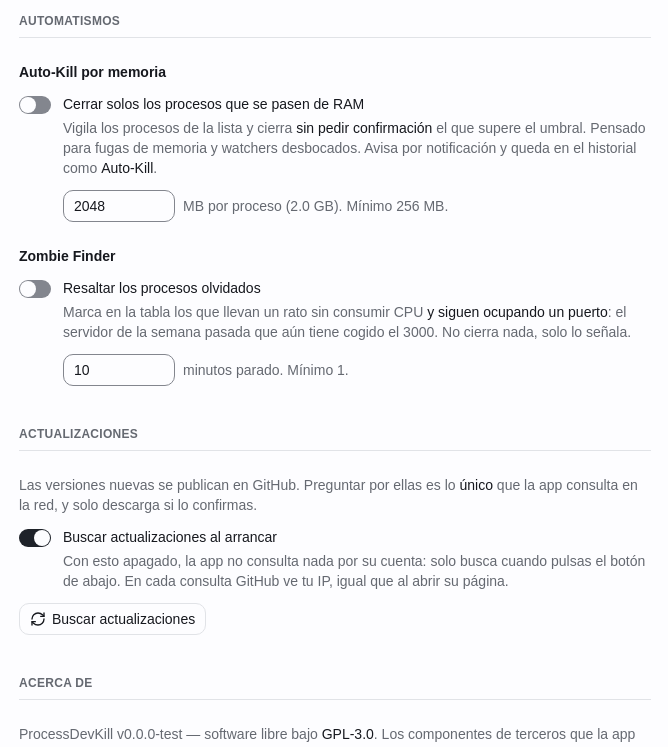
Test: minutos del Zombie Finder › sube al minimo lo que se escriba por debajo
(page scrolled)
Replace the text in the number field named "Minutos sin actividad" with "0" at [119, 370], box [63,354,175,386]
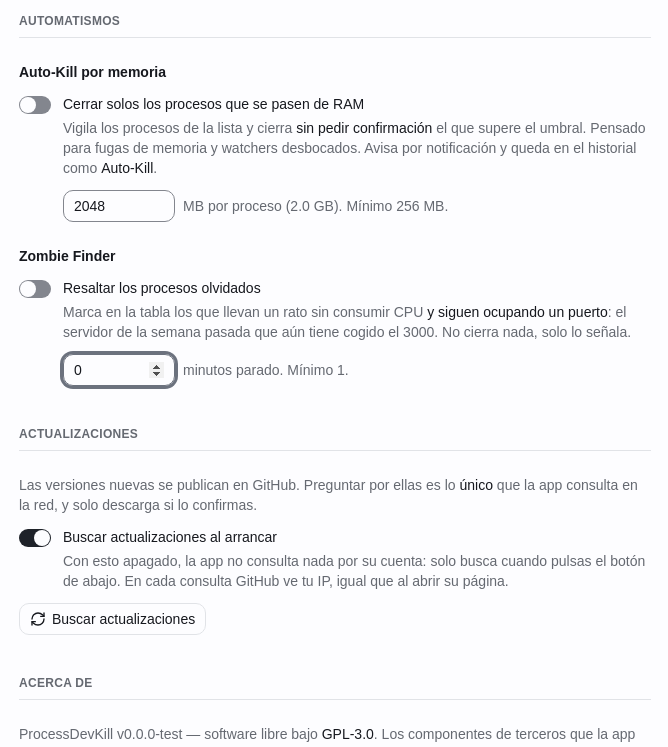
Press Tab
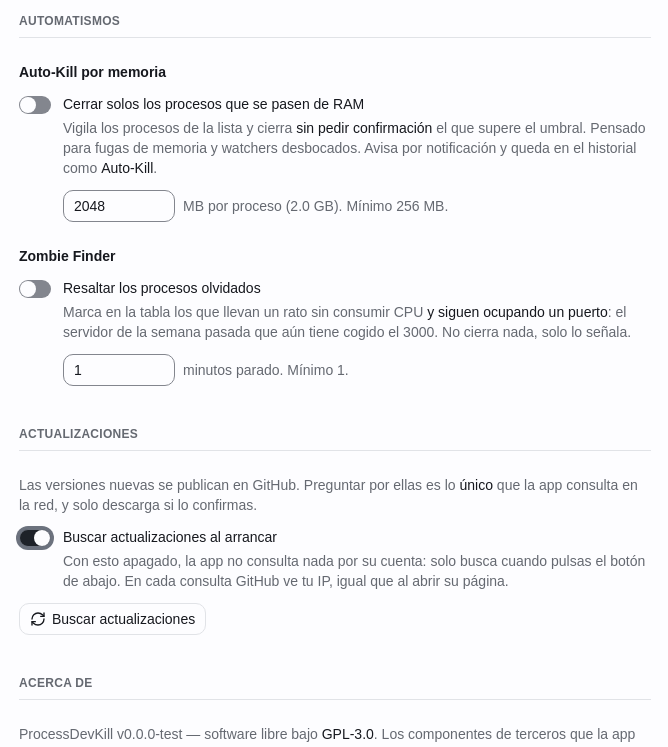
Now the number field named "Minutos sin actividad" holds "1", box [63,354,175,386]
